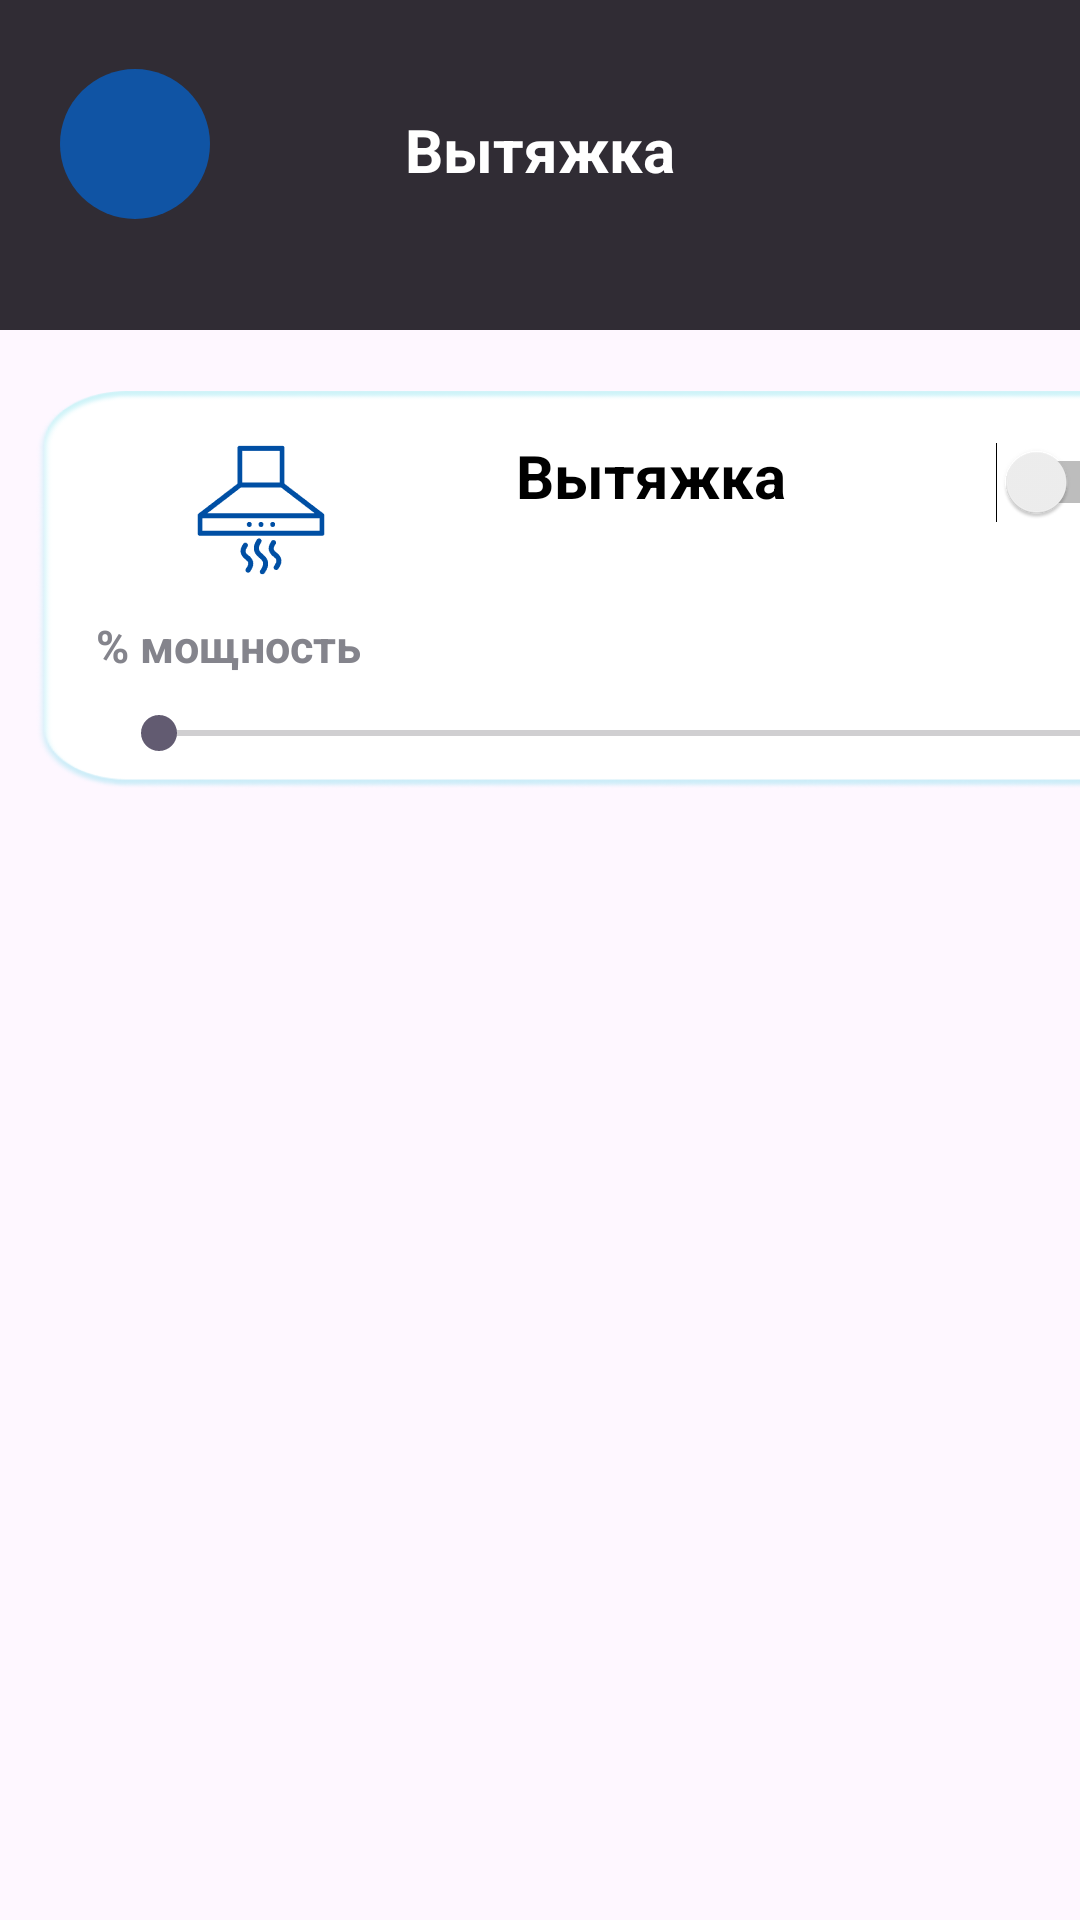

Screen size 1080×1920. Icon name, then its center in pixels as [x,y]:
hood: [261,510]
